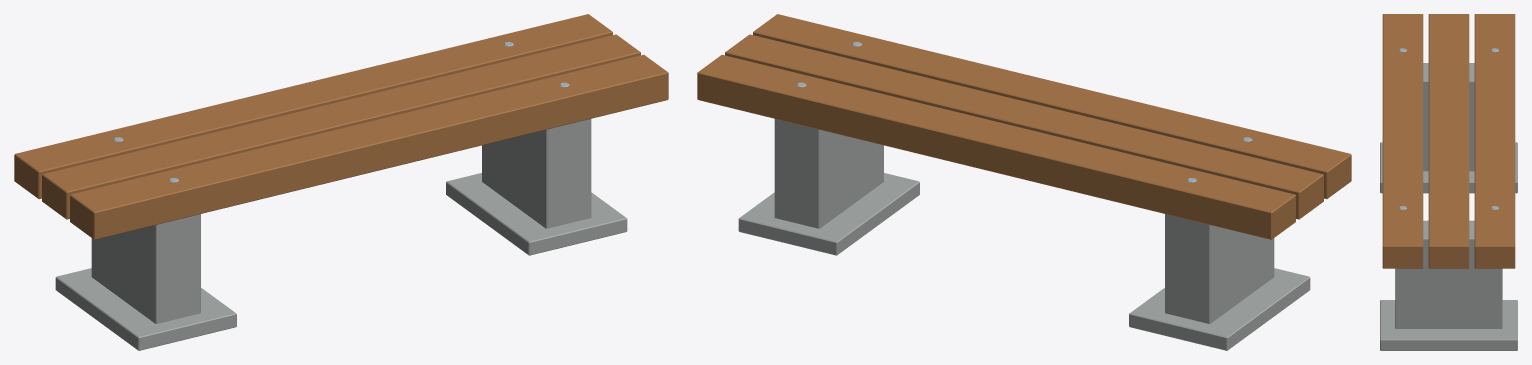
Rendered from b01_backless_boardwalk_bench.glb.
3 renders of one model, left to right at view 1: azimuth 30°, elevation 25°; view 2: azimuth 150°, elevation 25°; view 3: azimuth 270°, elevation 25°, orthographic. The views are drawn at different scales.
Parts seen in each view (by area): view 1: b01_backless_boardwalk_bench; view 2: b01_backless_boardwalk_bench; view 3: b01_backless_boardwalk_bench.
Part boxes in pixels (left/top/right/bottom): b01_backless_boardwalk_bench: left=14, top=14, right=668, bottom=350; b01_backless_boardwalk_bench: left=697, top=14, right=1351, bottom=350; b01_backless_boardwalk_bench: left=1380, top=14, right=1517, bottom=350.
Size of the model in its own units: 2.15 by 0.535 by 0.54.
